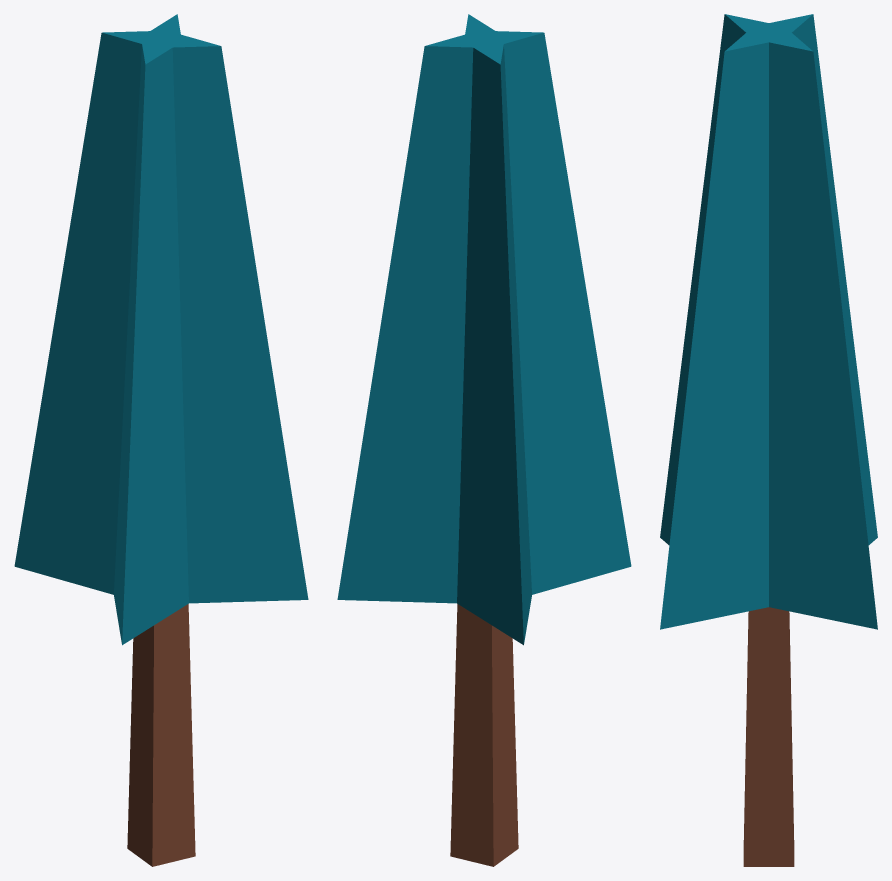
Rendered from Tree_27_summer_blue_vc.fbx.
3 renders of one model, left to right at view 1: azimuth 30°, elevation 25°; view 2: azimuth 150°, elevation 25°; view 3: azimuth 270°, elevation 25°, orthographic.
Visible parts, largest first — view 1: Tree_27_summer_blue_vc; view 2: Tree_27_summer_blue_vc; view 3: Tree_27_summer_blue_vc.
Boxes of the visible parts, x1=… form: Tree_27_summer_blue_vc: x1=14, y1=14, x2=308, y2=866; Tree_27_summer_blue_vc: x1=337, y1=14, x2=631, y2=866; Tree_27_summer_blue_vc: x1=660, y1=14, x2=877, y2=866.
Size of the model in its own units: 63.19 by 263 by 63.19.
